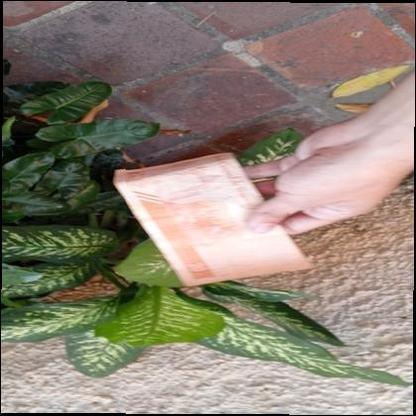twenty-back-vef: (110, 153, 315, 288)
